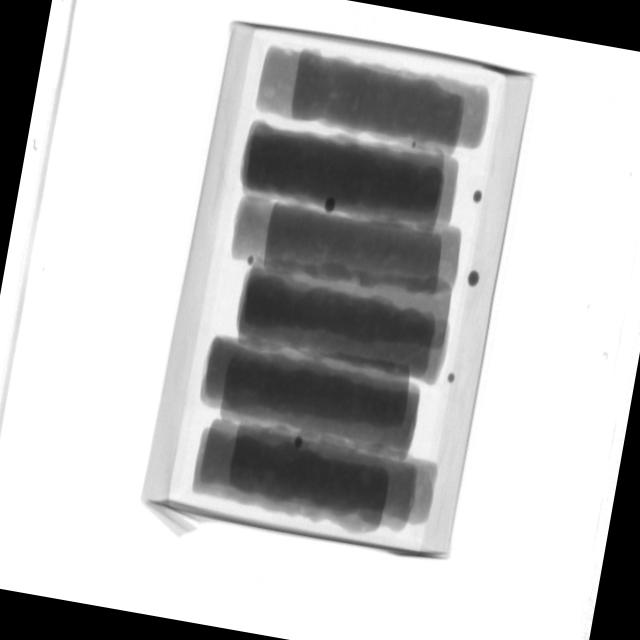ym: (325, 197, 339, 215), (468, 270, 481, 288), (473, 191, 484, 205), (294, 437, 305, 450), (447, 373, 457, 383), (248, 257, 257, 267), (413, 143, 419, 149)
